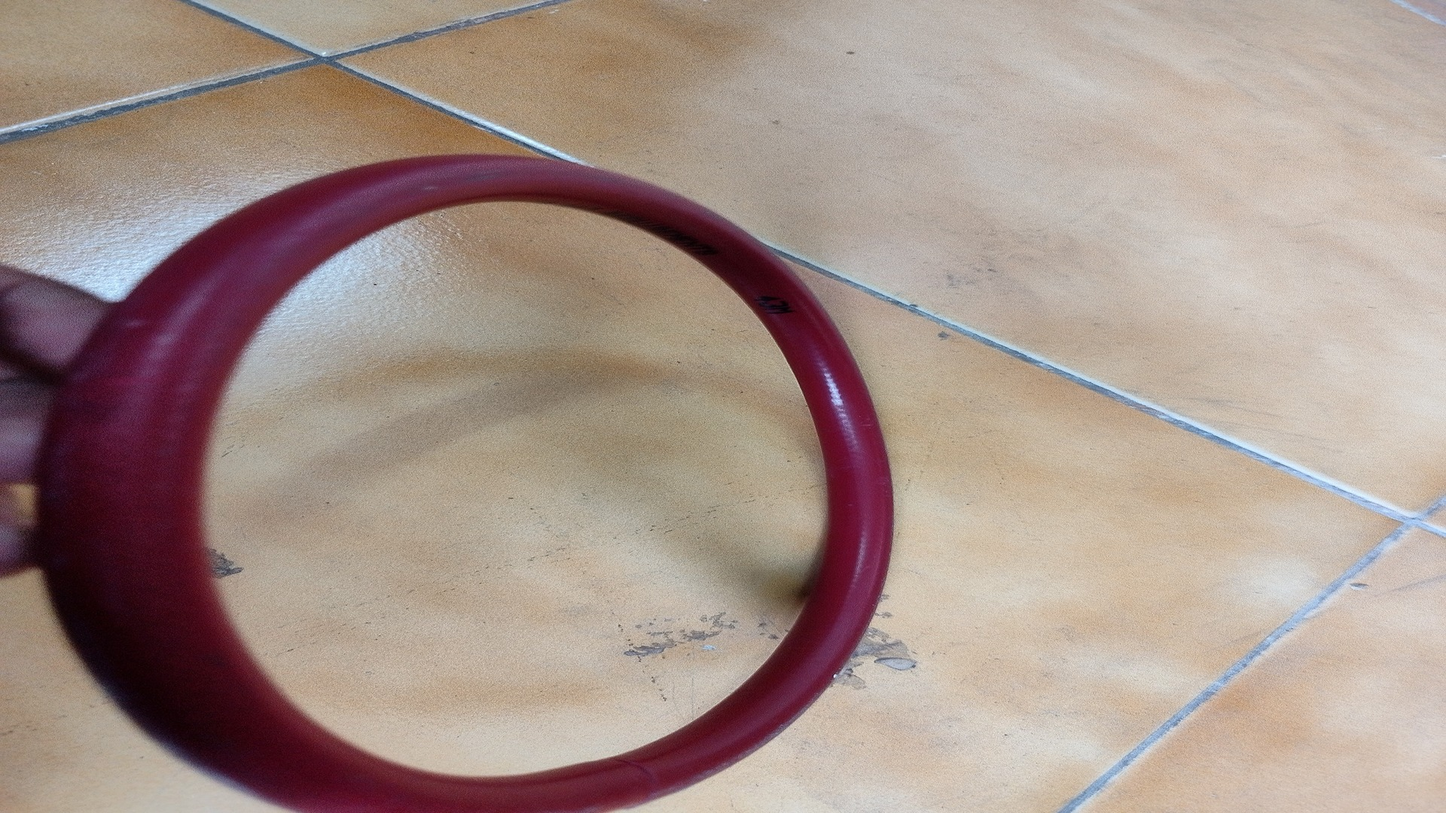Red ring: (78, 157, 895, 813)
